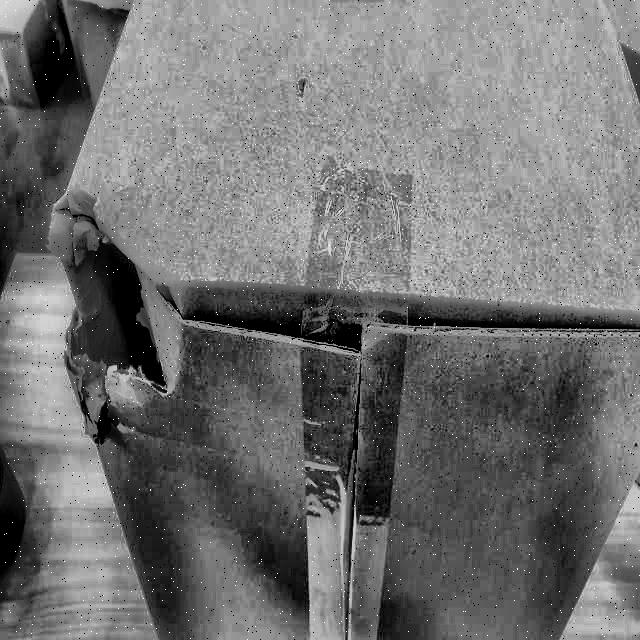box: (33, 0, 640, 639)
hole: (63, 203, 179, 411)
